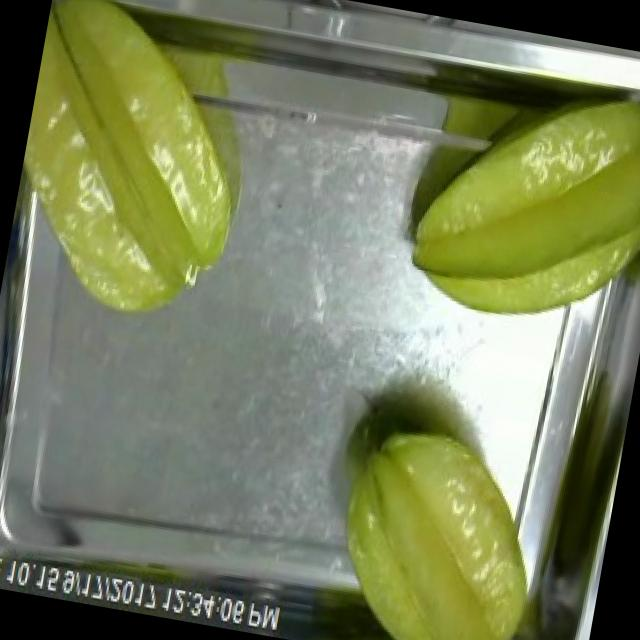fruit: (0, 0, 278, 342), (389, 55, 640, 353), (309, 404, 576, 640)
